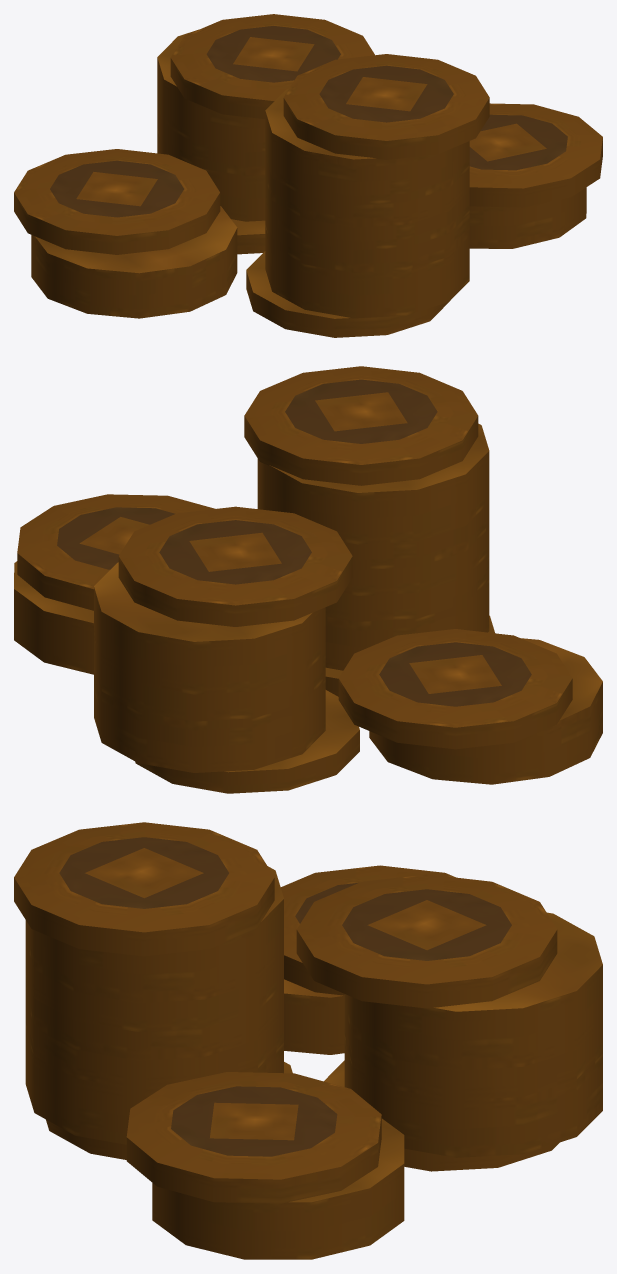
File: coin_pile-Bd7_2tfa.glb
3 renders of one model, top to bottom at view 1: azimuth 30°, elevation 25°; view 2: azimuth 150°, elevation 25°; view 3: azimuth 270°, elevation 25°, orthographic. The views are drawn at different scales.
Visible parts, largest first — view 1: Coin_Pile; view 2: Coin_Pile; view 3: Coin_Pile.
Boxes of the visible parts, x1,y1,x2,y2 form: Coin_Pile: [14, 14, 602, 337]; Coin_Pile: [14, 366, 602, 793]; Coin_Pile: [14, 822, 602, 1259].
Size of the model in its own units: 0.8886 by 0.3307 by 0.6941.
Materials: 1 (1 with a texture image).
